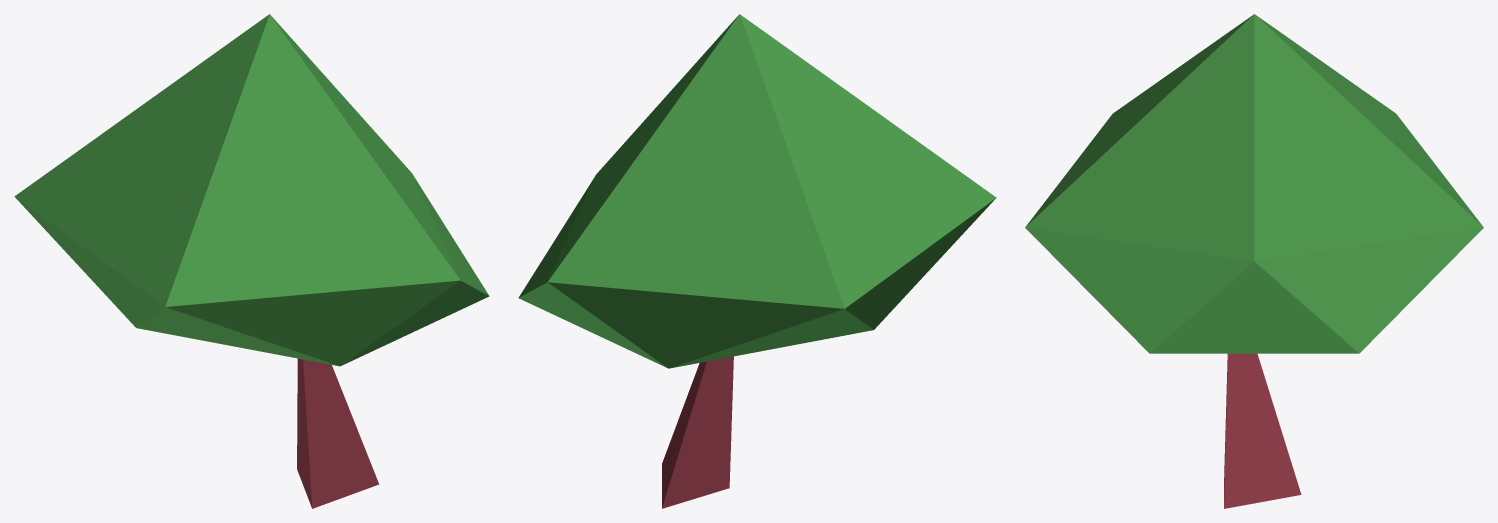
File: Tree_2.fbx
3 views of the same model, side by side, from view 1: azimuth 30°, elevation 25°; view 2: azimuth 150°, elevation 25°; view 3: azimuth 270°, elevation 25° (orthographic). The views are drawn at different scales.
Visible parts, largest first — view 1: LeafyTree.001; view 2: LeafyTree.001; view 3: LeafyTree.001.
Boxes of the visible parts, x1,y1,x2,y2 form: LeafyTree.001: (14, 14, 489, 508); LeafyTree.001: (518, 14, 996, 508); LeafyTree.001: (1025, 14, 1483, 508).
Bounding box in the file's own units: 0.4501 × 0.6119 × 0.5535.
